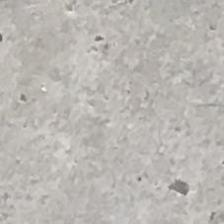Non_Crack: (23, 34, 211, 210)
